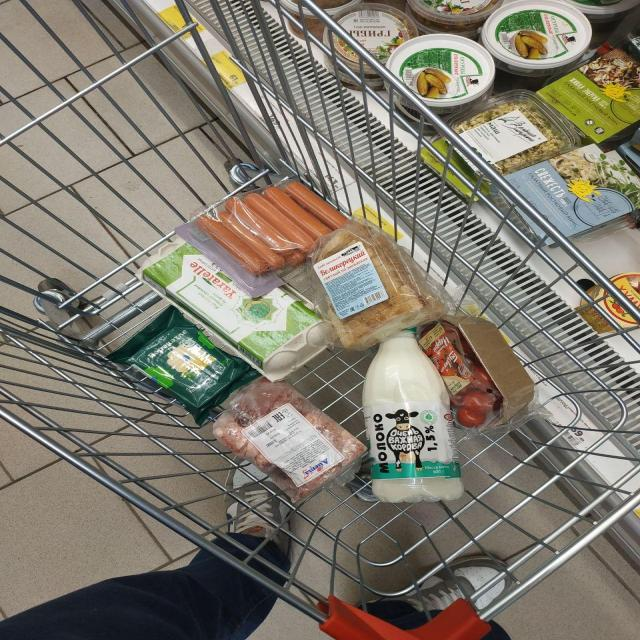cheese: (105, 202, 363, 578)
egg: (172, 171, 482, 478)
milk: (232, 251, 640, 640)
tomato: (234, 202, 640, 613), (244, 194, 640, 586), (243, 183, 640, 549)
